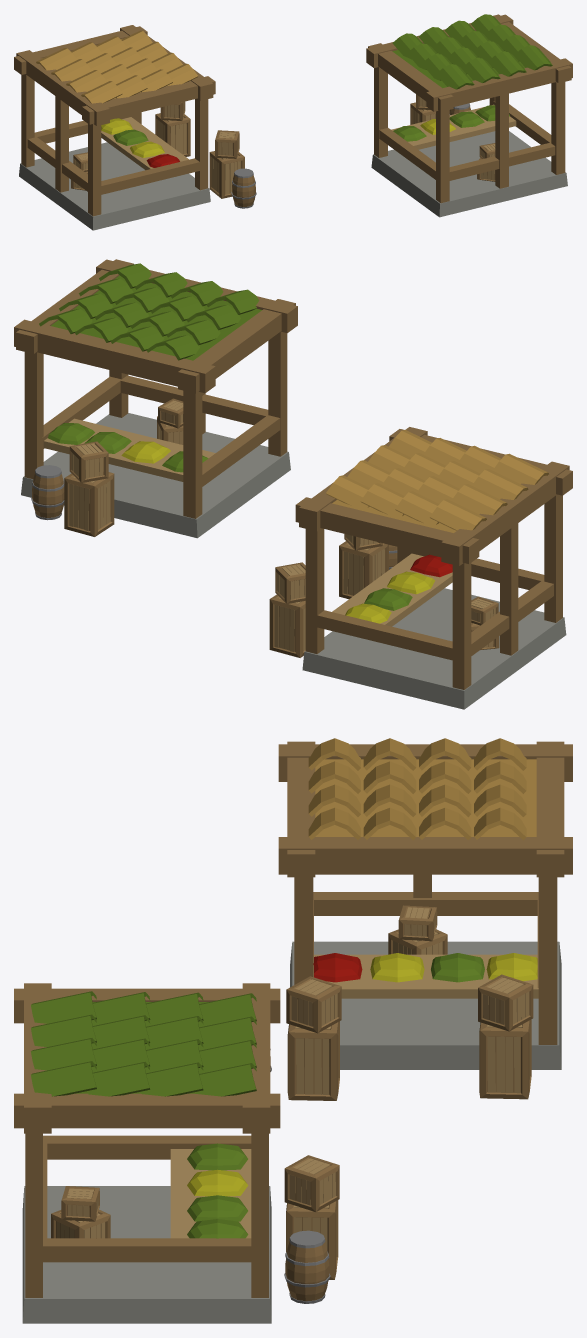
The model's file is Market Stalls-4ZAhRv2tLG.glb.
3 renders of one model, top to bottom at view 1: azimuth 30°, elevation 25°; view 2: azimuth 150°, elevation 25°; view 3: azimuth 270°, elevation 25°, orthographic. The views are drawn at different scales.
Visible parts, largest first — view 1: Market_SecondAge_Level1; view 2: Market_SecondAge_Level1; view 3: Market_SecondAge_Level1.
Part boxes in pixels (<box>): Market_SecondAge_Level1: <box>14,14,572,230</box>; Market_SecondAge_Level1: <box>14,259,572,709</box>; Market_SecondAge_Level1: <box>14,738,572,1323</box>.
Size of the model in its own units: 1.92 by 0.5921 by 1.23.
